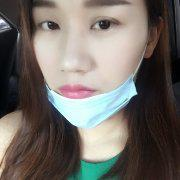WRONG: (28, 5, 144, 121)
